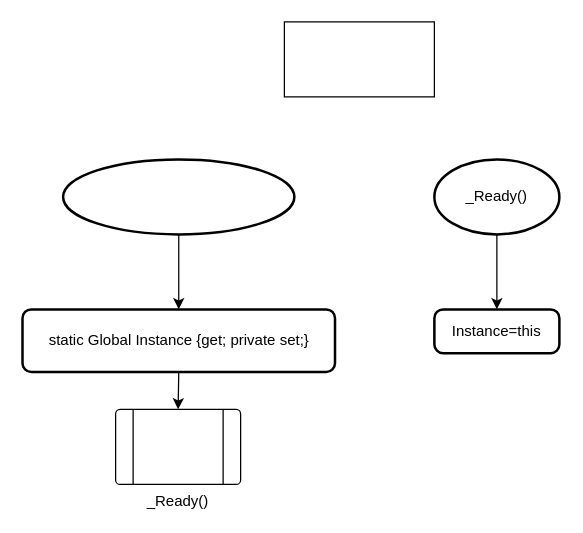
The diagram is 583 pixels wide and 533 high, and some of its shapes have lost their labels. The centre of each missing label's shape, as x and y in pixels:
"Global" belongs at point 358,59.
"partial class Global:Node2D" belongs at point 178,196.
